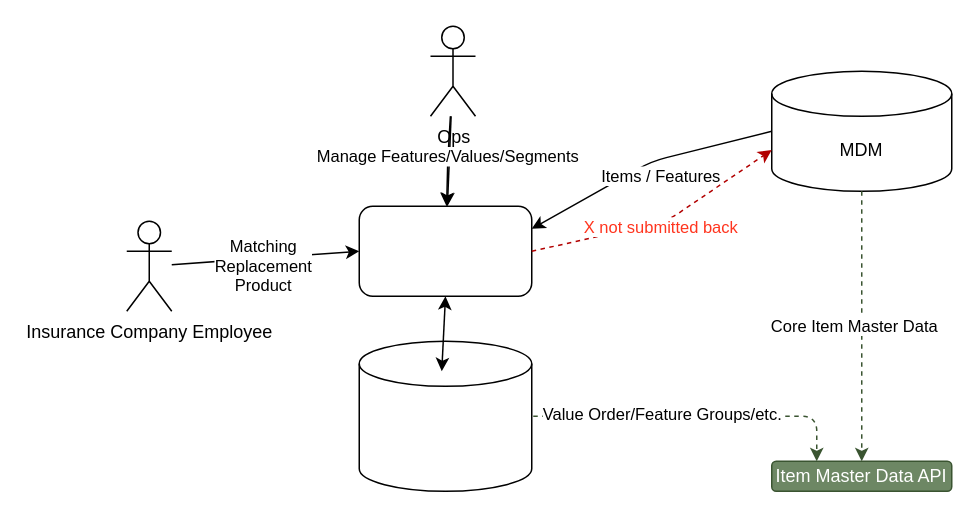
The diagram is 978 pixels wide and 518 high, and some of its shapes have lost their labels. Each missing label, with the centre of its shape:
Feature Groups and Value Ordering: (x=445, y=415)
Insurance Service: (x=445, y=250)
